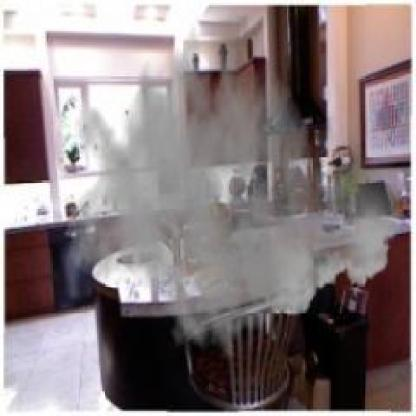Smoke: (65, 8, 406, 360)
